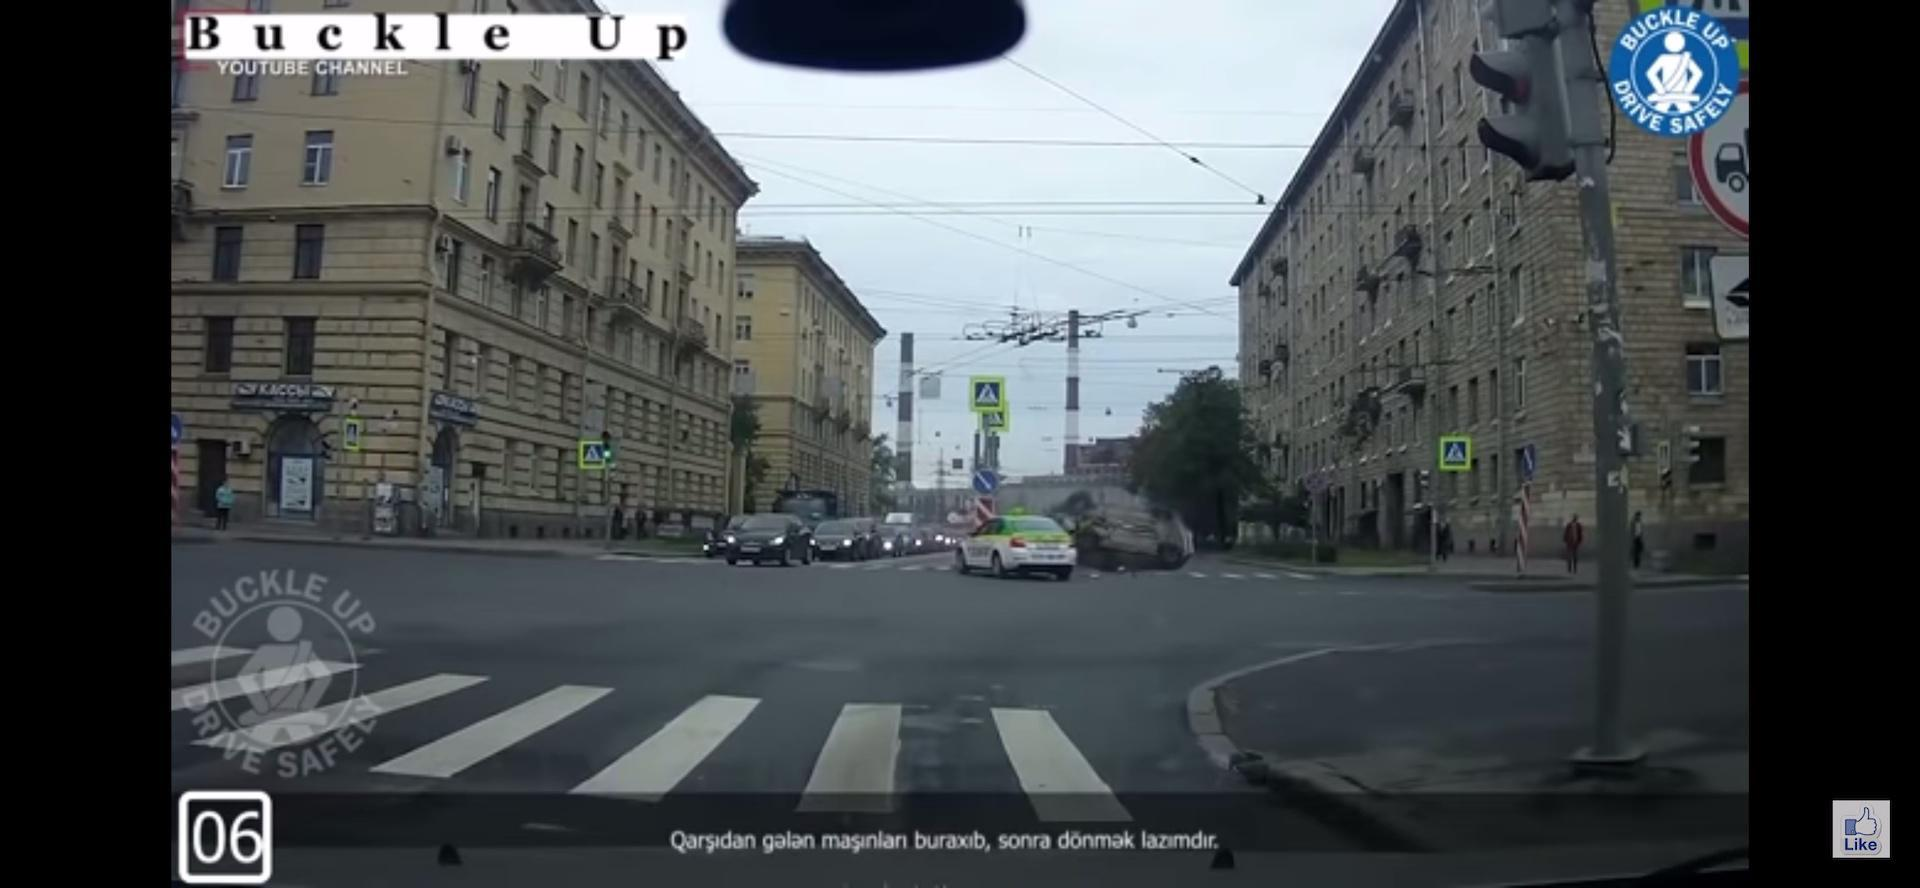car-accident: (953, 502, 1195, 583)
